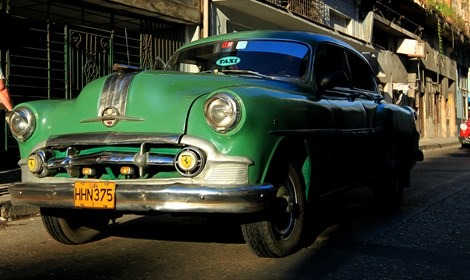licence: (74, 181, 116, 211)
